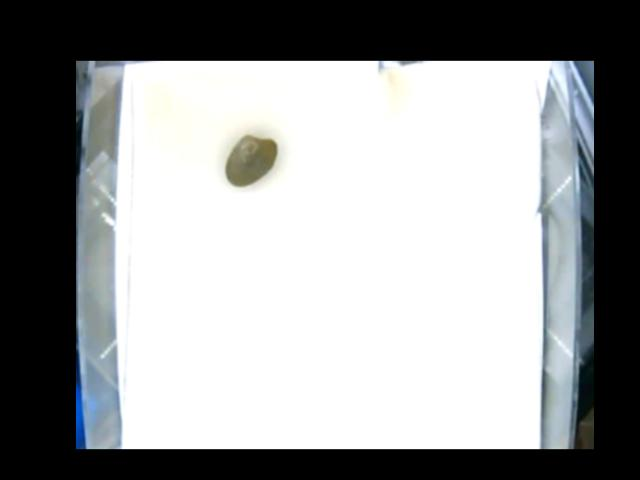Pebble: (228, 136, 276, 185)
